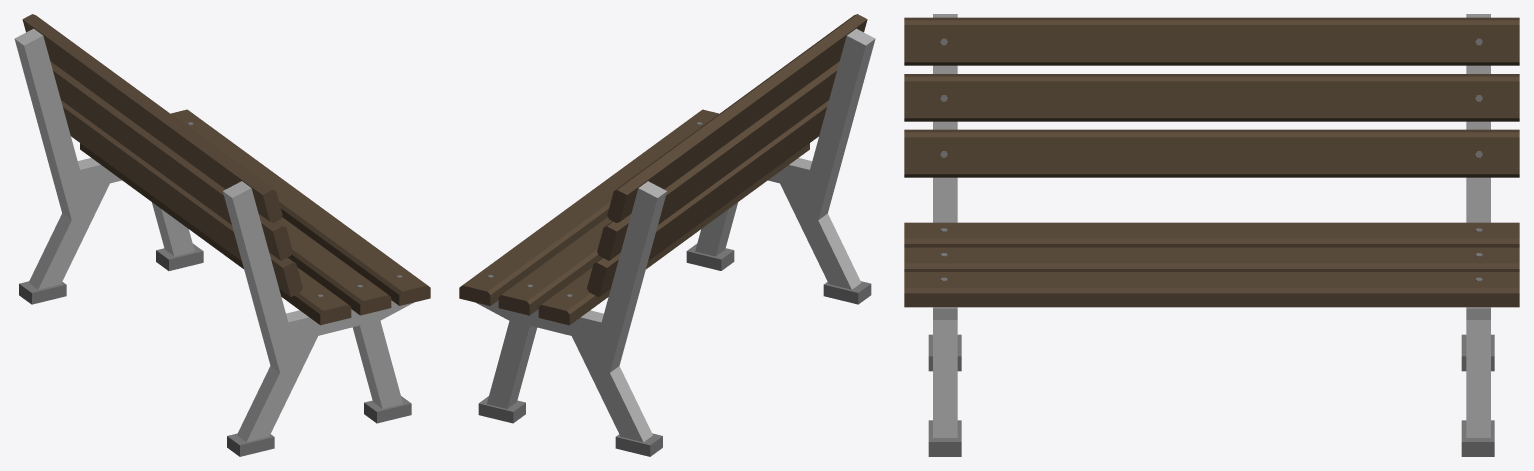
The model's file is SM_bench_02.gltf.
3 views of the same model, side by side, from view 1: azimuth 30°, elevation 25°; view 2: azimuth 150°, elevation 25°; view 3: azimuth 270°, elevation 25° (orthographic). The views are drawn at different scales.
Visible parts, largest first — view 1: SM_bench_02; view 2: SM_bench_02; view 3: SM_bench_02.
Boxes of the visible parts, x1=… form: SM_bench_02: x1=14, y1=14, x2=430, y2=456; SM_bench_02: x1=459, y1=14, x2=875, y2=456; SM_bench_02: x1=904, y1=14, x2=1519, y2=456.
Size of the model in its own units: 0.6782 by 0.9244 by 1.5.
1 material, 1 textured.
